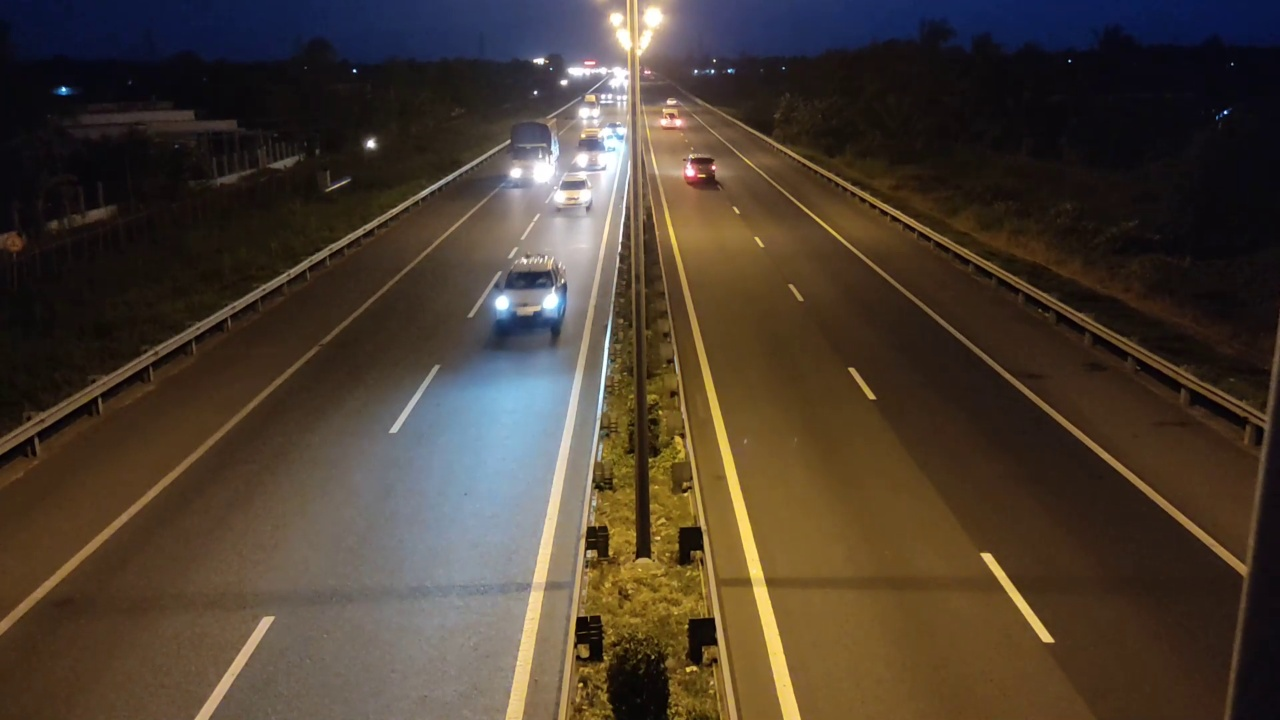car: (489, 253, 569, 345), (551, 172, 593, 213), (682, 153, 720, 188)
